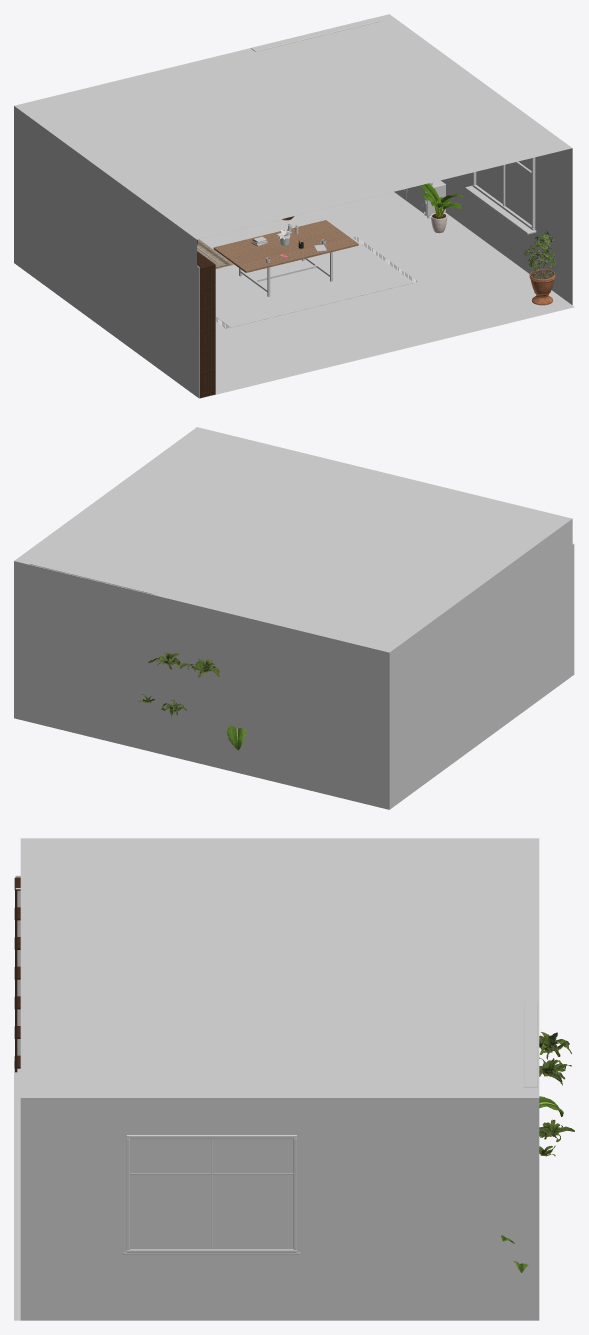
The model's file is room.glb.
3 renders of one model, top to bottom at view 1: azimuth 30°, elevation 25°; view 2: azimuth 150°, elevation 25°; view 3: azimuth 270°, elevation 25°, orthographic. The views are drawn at different scales.
Visible parts, largest first — view 1: Room · baked, Textured · props, Glossy · desk top; view 2: Room · baked, Textured · props; view 3: Room · baked, Textured · props.
Part boxes in pixels (left/top/right/bottom): Room · baked: left=14, top=14, right=574, bottom=398; Textured · props: left=197, top=183, right=556, bottom=398; Glossy · desk top: left=213, top=220, right=358, bottom=272; Room · baked: left=14, top=427, right=574, bottom=809; Textured · props: left=138, top=652, right=246, bottom=750; Room · baked: left=14, top=838, right=539, bottom=1320; Textured · props: left=14, top=877, right=574, bottom=1272.
Bounding box in the file's own units: 9.22 × 3.76 × 8.22.
75 materials, 49 textured.
